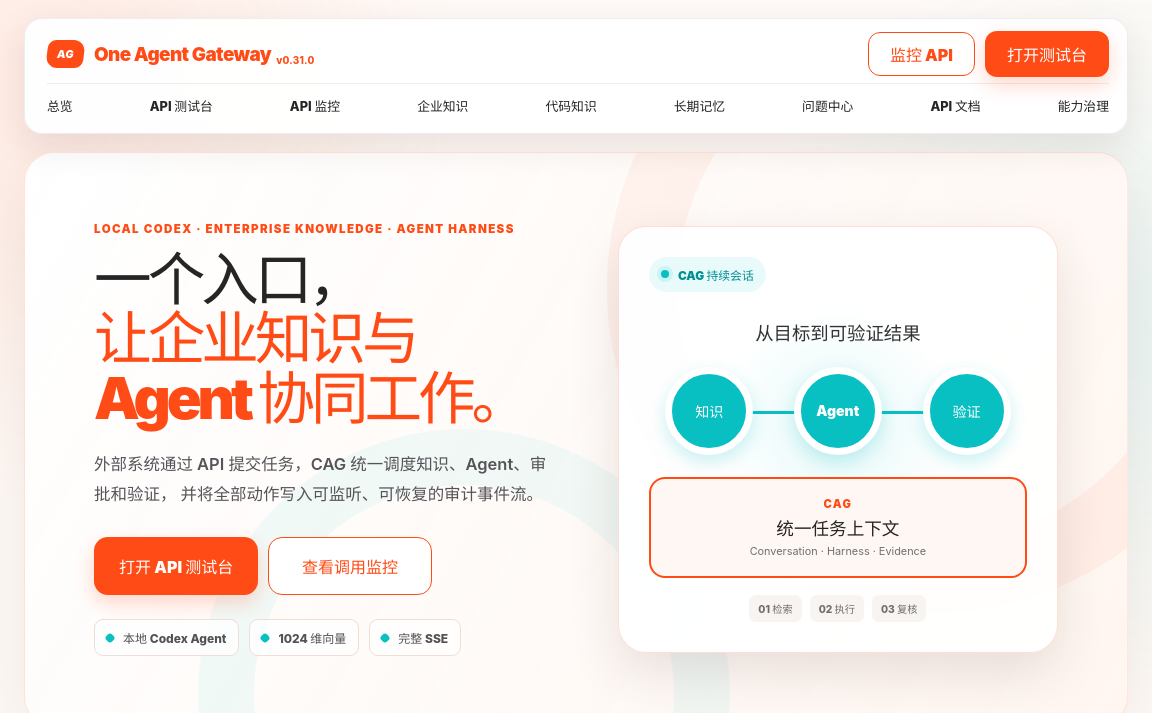
Test: One Agent Gateway conversation page › projects the global external API audit SSE into the monitor
Click the link "API 监控" at coordinates (315, 104), box [290,88,340,121]
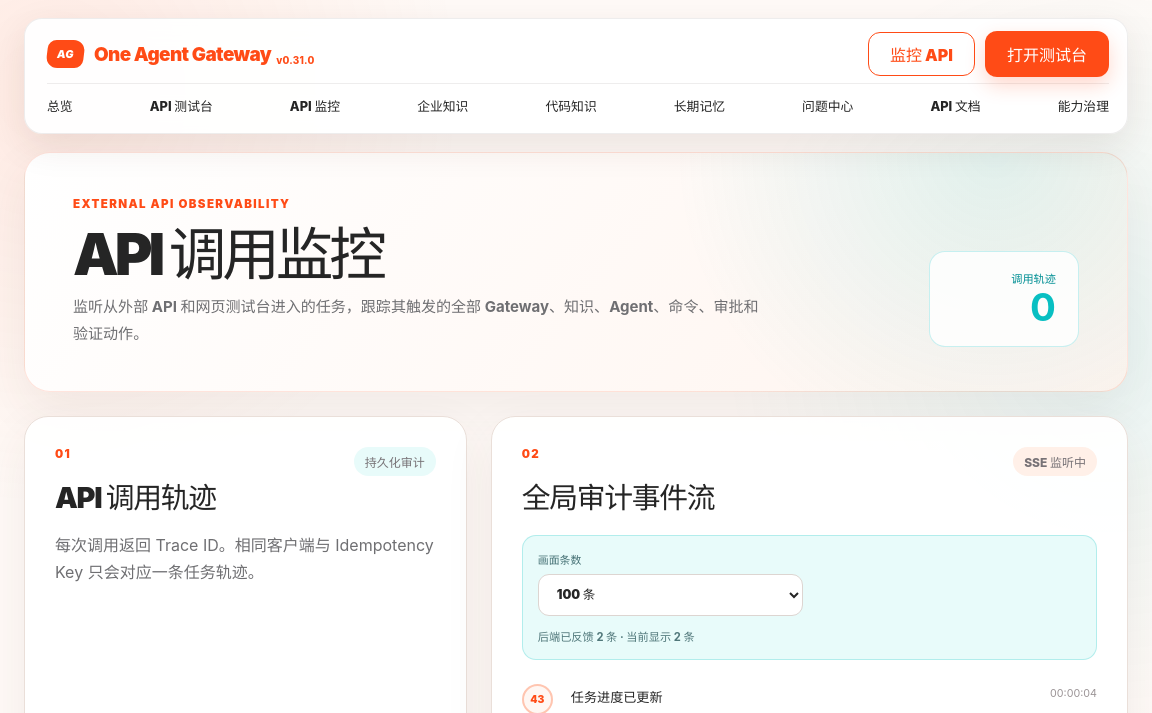
Expected: the heading "全局审计事件流" is shown, [522,475,714,516]
